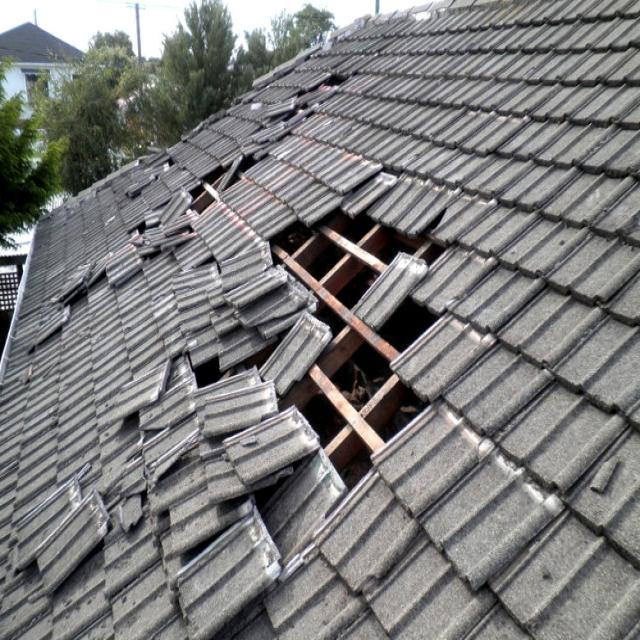damaged_roof: (254, 183, 437, 487), (202, 493, 315, 636), (102, 405, 201, 541), (122, 143, 253, 244), (176, 248, 256, 401), (31, 259, 148, 353), (257, 56, 362, 140)
